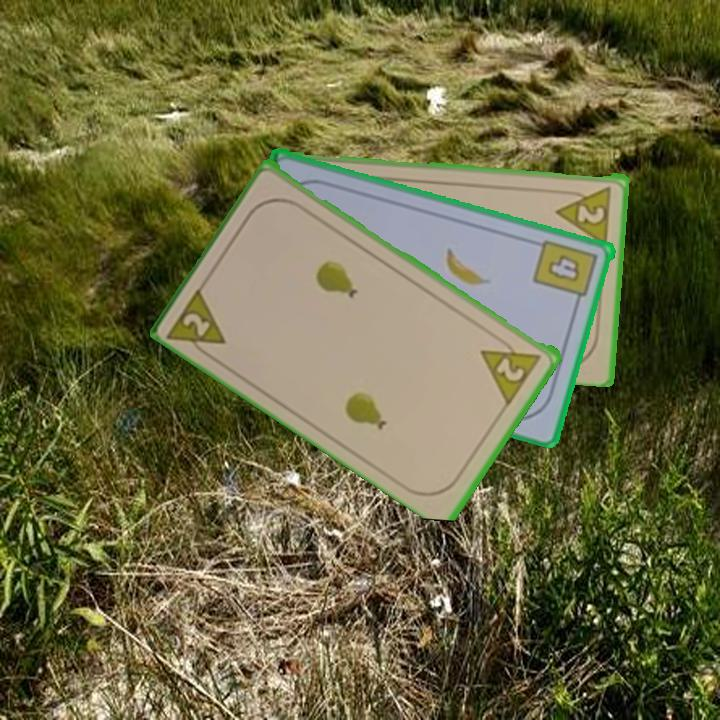2p: (164, 281, 230, 364), (477, 332, 545, 406), (553, 182, 615, 245)
4b: (530, 236, 602, 309)
